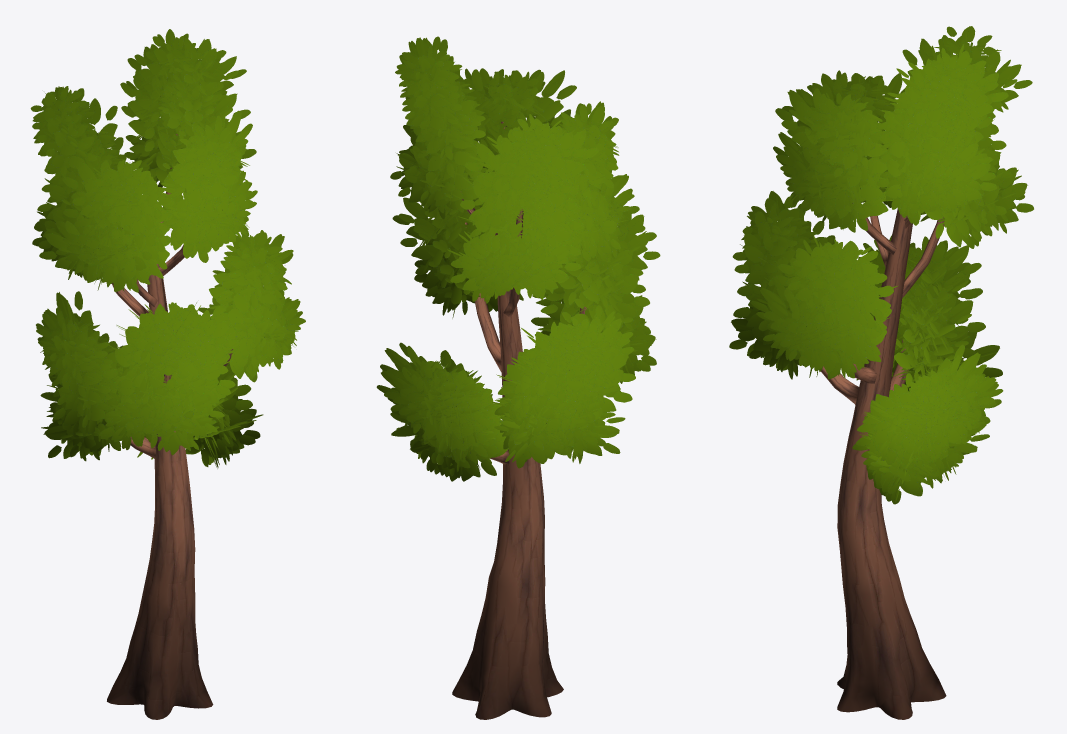
The model's file is oak3.glb.
3 renders of one model, left to right at view 1: azimuth 30°, elevation 25°; view 2: azimuth 150°, elevation 25°; view 3: azimuth 270°, elevation 25°, orthographic. The views are drawn at different scales.
Parts seen in each view (by area): view 1: CommonTree_3; view 2: CommonTree_3; view 3: CommonTree_3.
Part boxes in pixels (bbox=[...]): CommonTree_3: bbox=[30, 29, 305, 719]; CommonTree_3: bbox=[376, 36, 660, 719]; CommonTree_3: bbox=[729, 26, 1033, 719].
Size of the model in its own units: 4.06 by 9.43 by 4.24.
2 materials, 2 textured.
